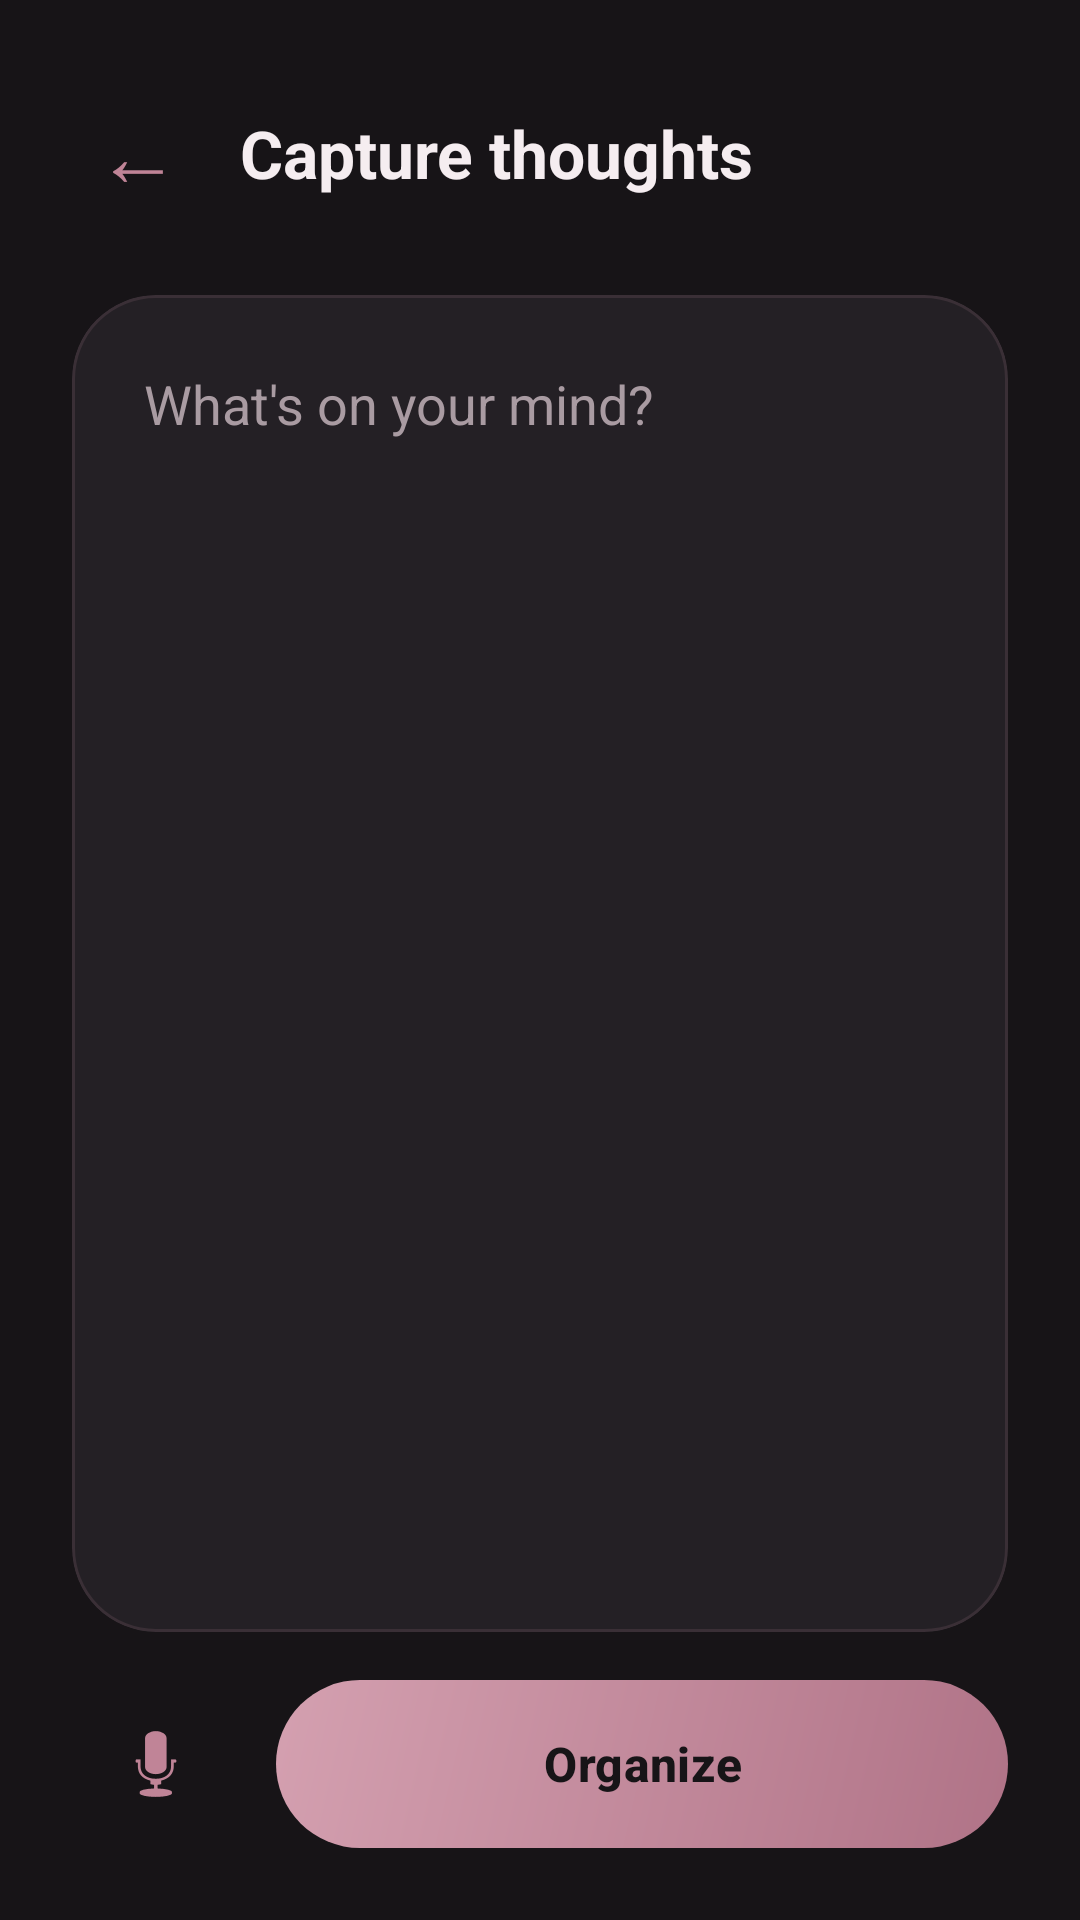

Locate icon controls on the screen. Image size 1080×1920, boxes as (x1, y1, x2, y2).
Voice input: (135, 1731, 177, 1797)
